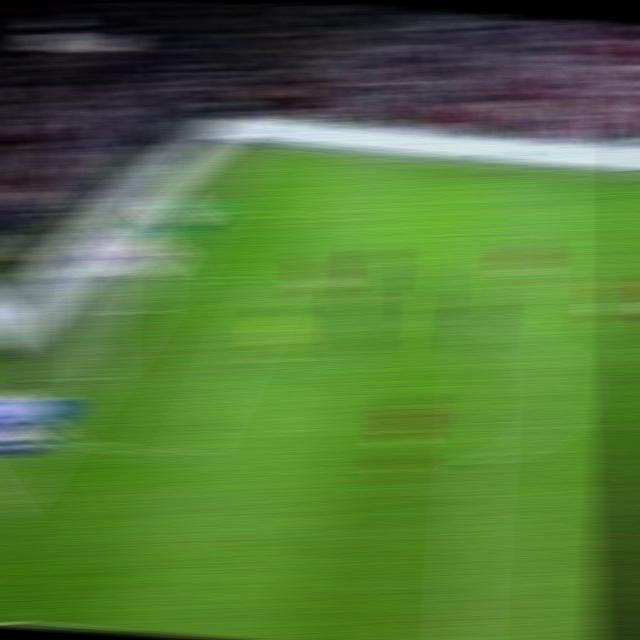bigarea_top_inner: (472, 227, 506, 242)
bigarea_top_outter: (199, 202, 238, 219)
bottom_arc_area_intersection: (458, 451, 494, 474)
corner: (239, 146, 282, 159)
smallarea_bottom_inner: (171, 437, 213, 468)
smallarea_bottom_outter: (35, 429, 74, 453)
smallarea_top_inner: (250, 275, 292, 298)
smallarea_top_outter: (150, 263, 195, 287)
top_arc_area_intersection: (467, 314, 502, 329)
